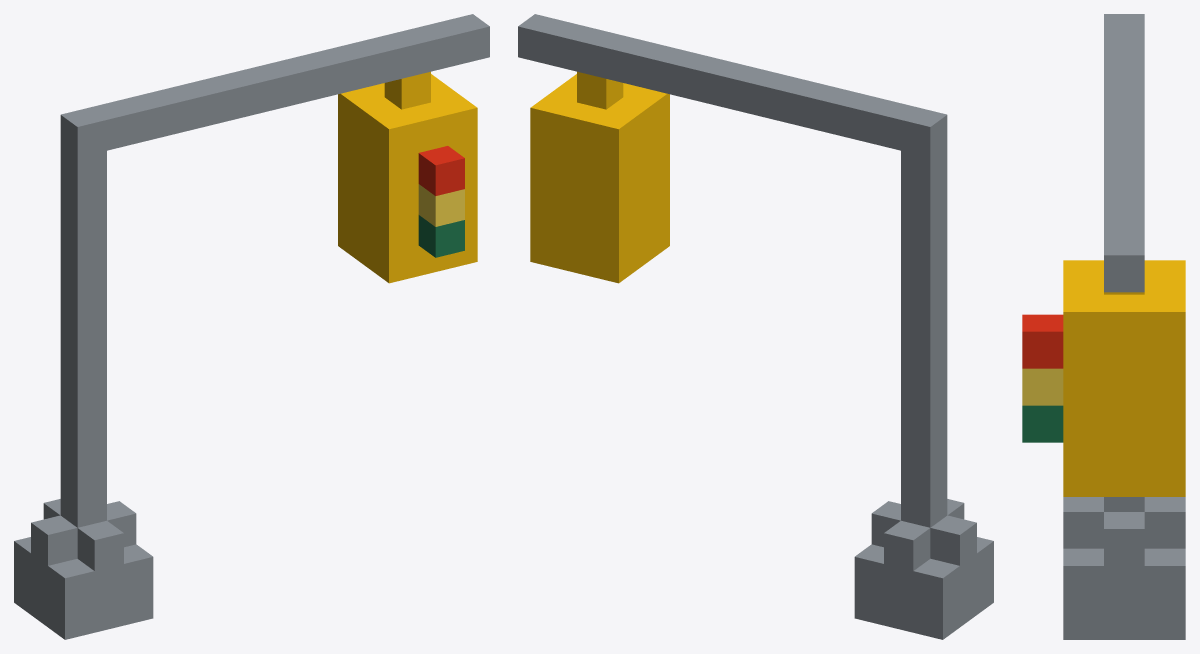
File: stoplight.vox.obj
3 renders of one model, left to right at view 1: azimuth 30°, elevation 25°; view 2: azimuth 150°, elevation 25°; view 3: azimuth 270°, elevation 25°, orthographic. The views are drawn at different scales.
Size of the model in its own units: 1.5 by 1.6 by 0.4.
1 material, 1 textured.
